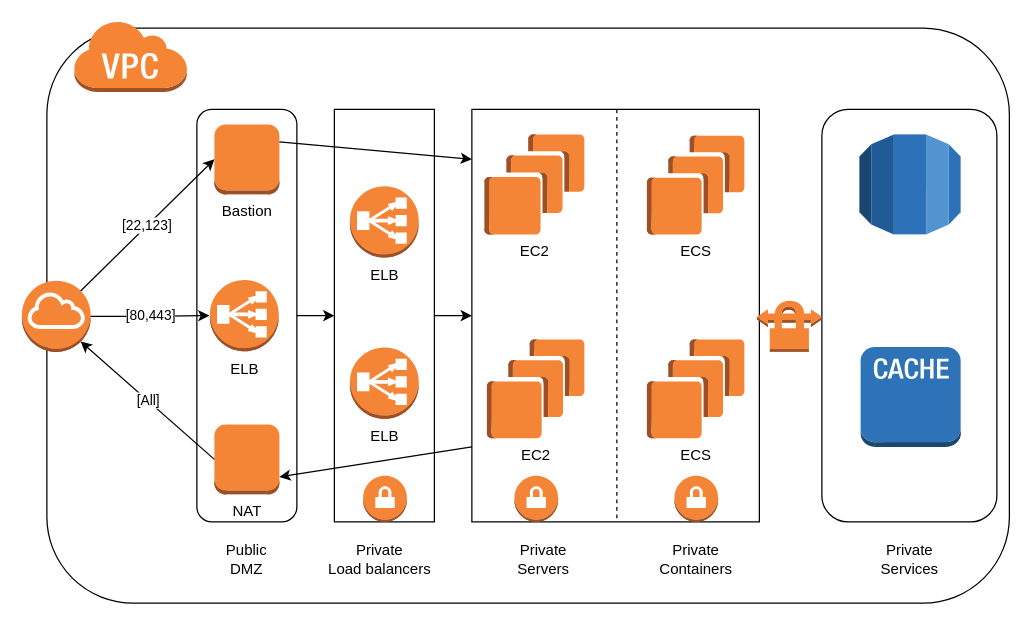
The diagram is 1031 pixels wide and 625 high, and some of its shapes have lost their labels. Each missing label, with the box of its shape:
ElastiCache/Redis: (860, 346, 960, 446)
Internet Gateway: (21, 280, 90, 351)
RDS - PostgreSQL: (859, 134, 960, 234)
Typical Virtual Private Cloud: (74, 21, 186, 91)
